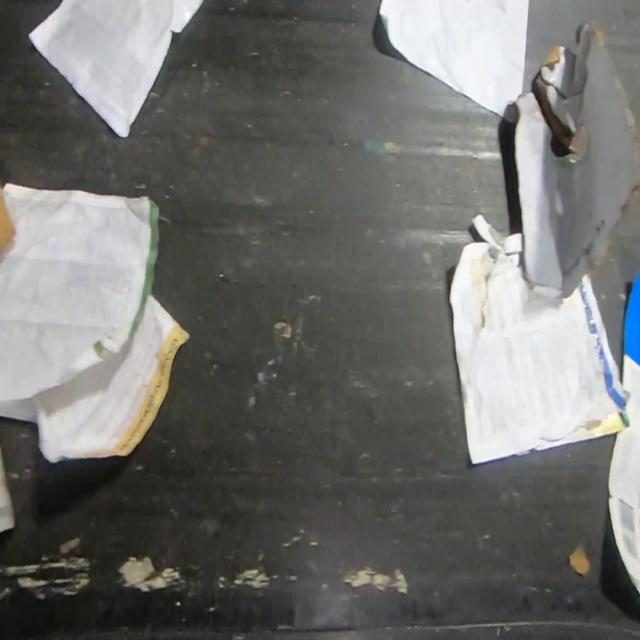cardboard: (511, 17, 640, 308), (0, 186, 16, 257)
